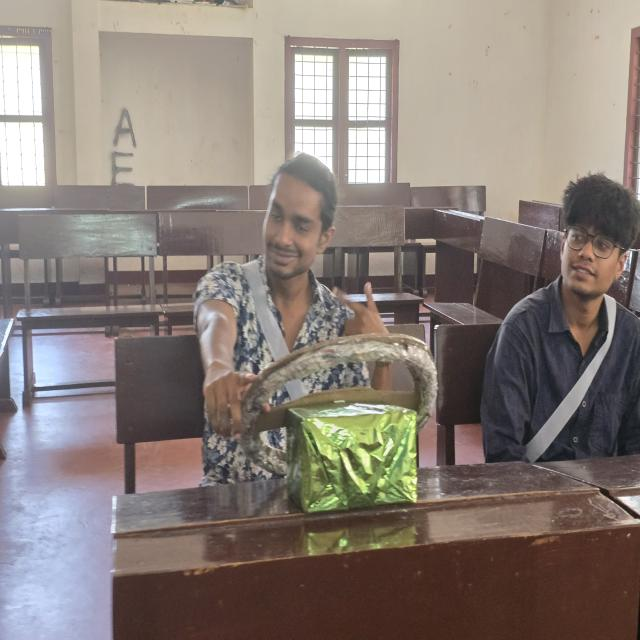seatbelt: (225, 251, 358, 484), (506, 290, 636, 460)
